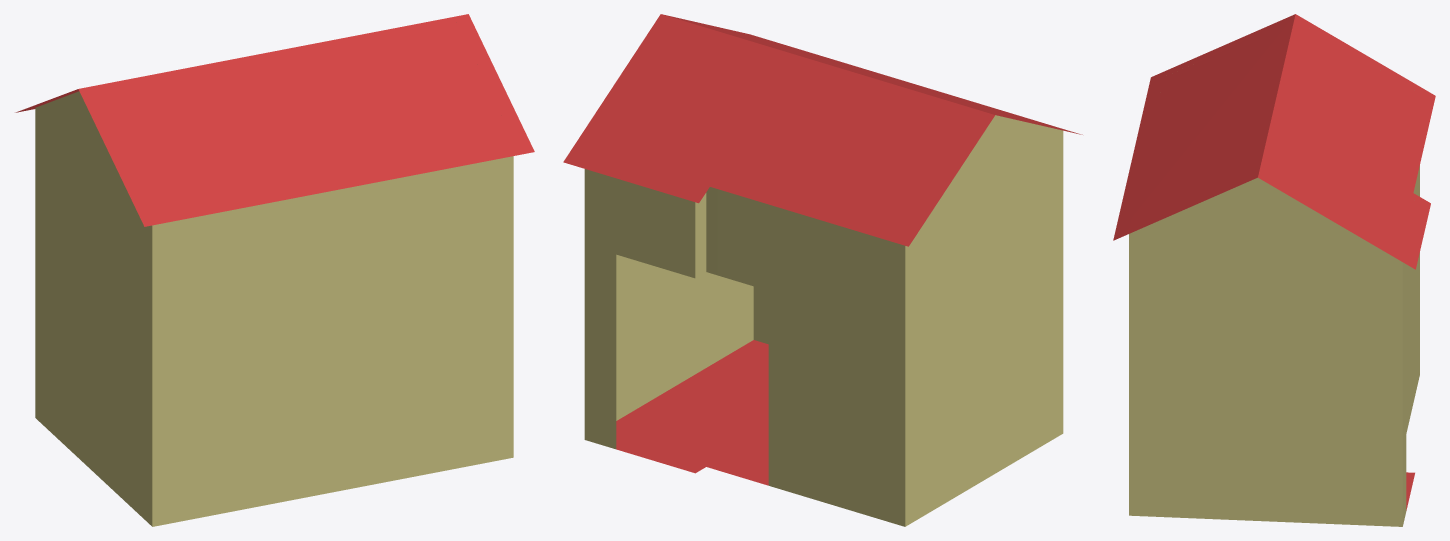
The picture shows the model from 3 angles, left to right: view 1: azimuth 30°, elevation 25°; view 2: azimuth 150°, elevation 25°; view 3: azimuth 270°, elevation 25°; orthographic projection. The views are drawn at different scales.
Visible parts, largest first — view 1: group_5, group_3, group_4; view 2: group_5, group_3, group_6, group_4; view 3: group_5, group_3, group_4.
Part boxes in pixels (left/top/right/bottom): group_5: left=35, top=91, right=513, bottom=526; group_3: left=15, top=17, right=513, bottom=226; group_4: left=79, top=14, right=534, bottom=226; group_5: left=584, top=115, right=1063, bottom=526; group_3: left=563, top=14, right=1061, bottom=245; group_6: left=616, top=340, right=768, bottom=485; group_4: left=639, top=14, right=1082, bottom=246; group_5: left=1129, top=165, right=1419, bottom=526; group_3: left=1129, top=14, right=1430, bottom=269; group_4: left=1113, top=14, right=1435, bottom=240.
Bounding box in the file's own units: 14.35 × 11.11 × 13.28.
